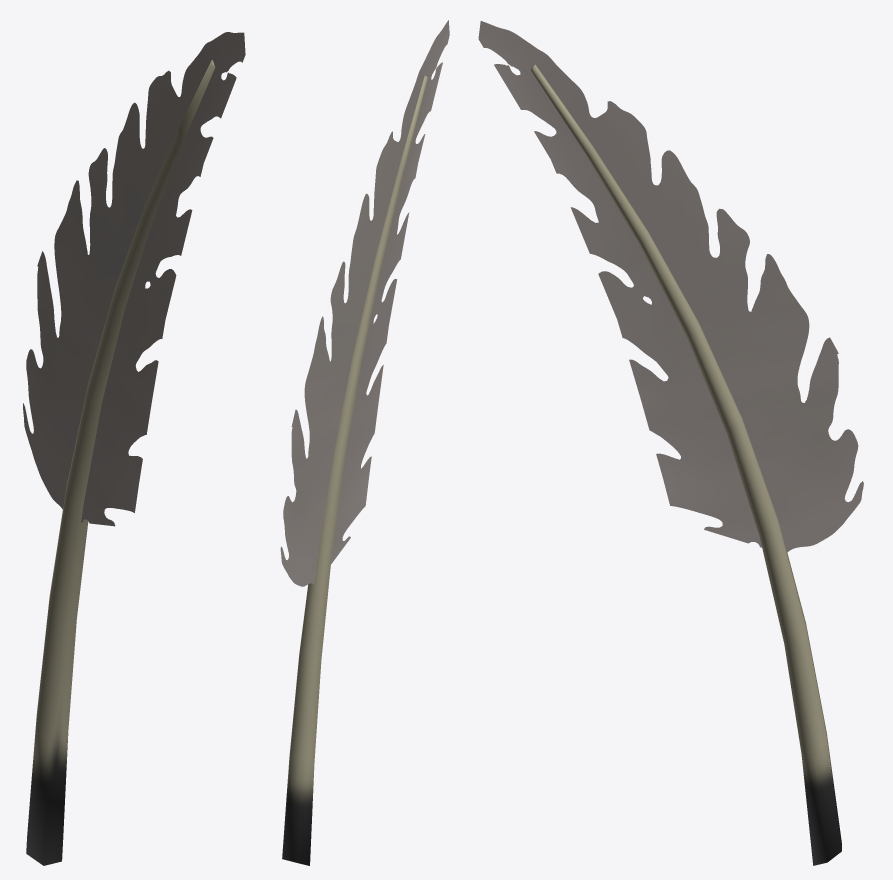
The model's file is SM_Quill.fbx.
3 views of the same model, side by side, from view 1: azimuth 30°, elevation 25°; view 2: azimuth 150°, elevation 25°; view 3: azimuth 270°, elevation 25° (orthographic). The views are drawn at different scales.
Parts seen in each view (by area): view 1: SM_Quill_LOD0; view 2: SM_Quill_LOD0; view 3: SM_Quill_LOD0.
Boxes of the visible parts, bbox=[...] form: SM_Quill_LOD0: bbox=[23, 32, 245, 865]; SM_Quill_LOD0: bbox=[280, 20, 449, 865]; SM_Quill_LOD0: bbox=[478, 21, 863, 865].
Size of the model in its own units: 0.9551 by 10.41 by 24.34.
1 material, 1 textured.
